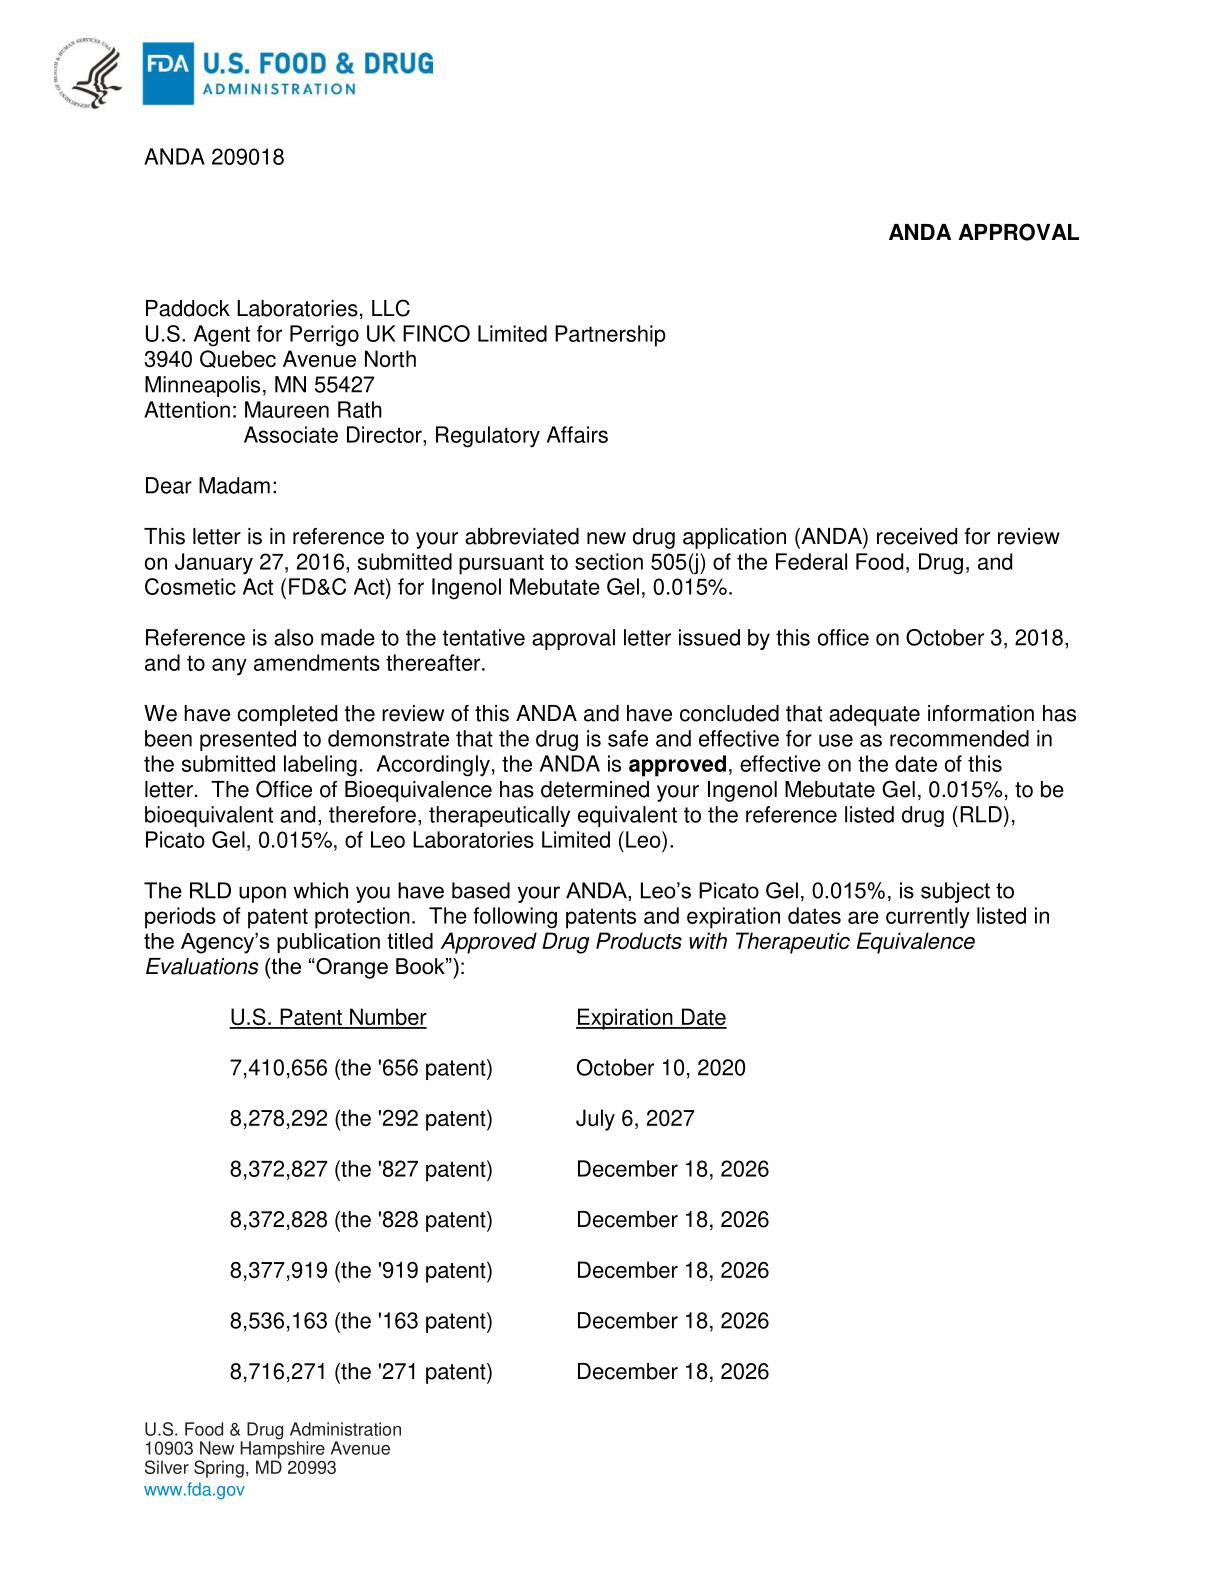nolines: (226, 1002, 775, 1382)
